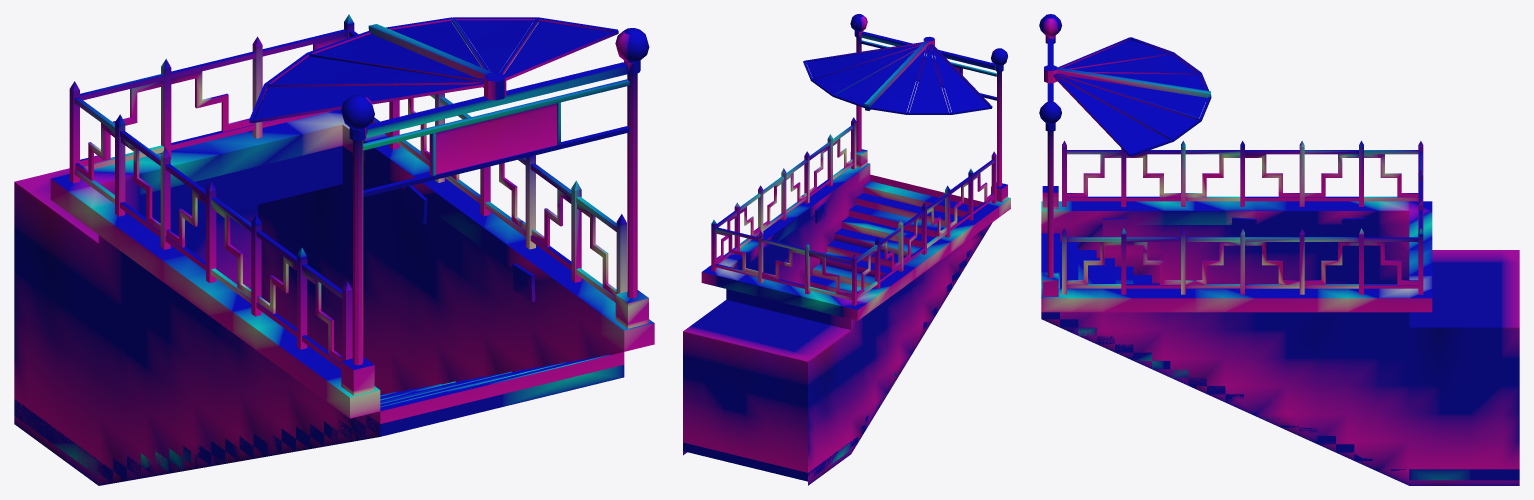
The model's file is kiosk.glb.
3 views of the same model, side by side, from view 1: azimuth 30°, elevation 25°; view 2: azimuth 150°, elevation 25°; view 3: azimuth 270°, elevation 25° (orthographic). The views are drawn at different scales.
Parts seen in each view (by area): view 1: kiosk_stair_walls, kiosk_coping, kiosk_balustrade, kiosk_canopy_glass, kiosk_stair, kiosk_frets, kiosk_girder, kiosk_canopy_frame, kiosk_sign_panel, kiosk_stair_ends, kiosk_sign, kiosk_lamp_left (+4 smaller); view 2: kiosk_stair_walls, kiosk_coping, kiosk_stair, kiosk_balustrade, kiosk_canopy_glass, kiosk_frets, kiosk_stair_ends, kiosk_canopy_frame, kiosk_girder, kiosk_lamp_left, kiosk_lamp_right, kiosk_sign; view 3: kiosk_stair_walls, kiosk_coping, kiosk_balustrade, kiosk_canopy_glass, kiosk_frets, kiosk_stair, kiosk_canopy_frame, kiosk_girder, kiosk_lamp_right, kiosk_stair_ends, kiosk_patches.
Part boxes in pixels (bbox=[...]): kiosk_stair_walls: bbox=[14, 146, 623, 485]; kiosk_coping: bbox=[50, 109, 654, 418]; kiosk_balustrade: bbox=[69, 14, 626, 369]; kiosk_canopy_glass: bbox=[255, 20, 610, 118]; kiosk_stair: bbox=[98, 354, 624, 483]; kiosk_frets: bbox=[75, 36, 616, 363]; kiosk_girder: bbox=[366, 24, 627, 137]; kiosk_canopy_frame: bbox=[249, 17, 618, 123]; kiosk_sign_panel: bbox=[435, 103, 556, 174]; kiosk_stair_ends: bbox=[14, 352, 624, 476]; kiosk_sign: bbox=[363, 79, 629, 197]; kiosk_lamp_left: bbox=[341, 127, 374, 395]; kiosk_stair_walls: bbox=[683, 175, 992, 485]; kiosk_coping: bbox=[701, 163, 1010, 320]; kiosk_stair: bbox=[810, 181, 976, 447]; kiosk_balustrade: bbox=[711, 117, 996, 305]; kiosk_canopy_glass: bbox=[806, 45, 988, 112]; kiosk_frets: bbox=[715, 138, 993, 297]; kiosk_stair_ends: bbox=[683, 174, 983, 481]; kiosk_canopy_frame: bbox=[803, 42, 992, 114]; kiosk_girder: bbox=[861, 31, 995, 110]; kiosk_lamp_left: bbox=[991, 65, 1007, 202]; kiosk_lamp_right: bbox=[850, 31, 867, 167]; kiosk_sign: bbox=[860, 40, 996, 100]; kiosk_stair_walls: bbox=[1041, 225, 1519, 485]; kiosk_coping: bbox=[1041, 201, 1432, 312]; kiosk_balustrade: bbox=[1062, 141, 1423, 294]; kiosk_canopy_glass: bbox=[1058, 39, 1207, 153]; kiosk_frets: bbox=[1067, 154, 1418, 284]; kiosk_stair: bbox=[1041, 233, 1408, 470]; kiosk_canopy_frame: bbox=[1053, 37, 1211, 156]; kiosk_girder: bbox=[1044, 38, 1210, 101]; kiosk_lamp_right: bbox=[1042, 123, 1058, 296]; kiosk_stair_ends: bbox=[1409, 469, 1519, 480]; kiosk_patches: bbox=[1102, 217, 1366, 236].
Size of the model in its own units: 4.53 by 6.99 by 7.84.
